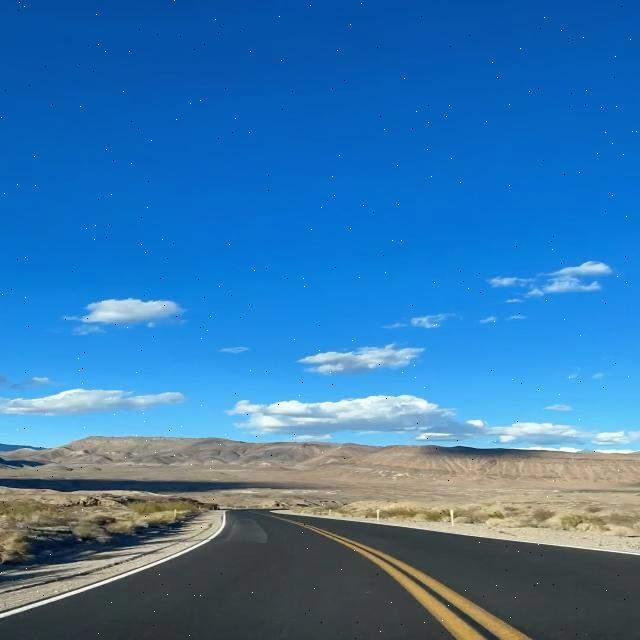lane: (291, 522, 531, 640), (0, 512, 226, 618)
road: (0, 510, 639, 639)
